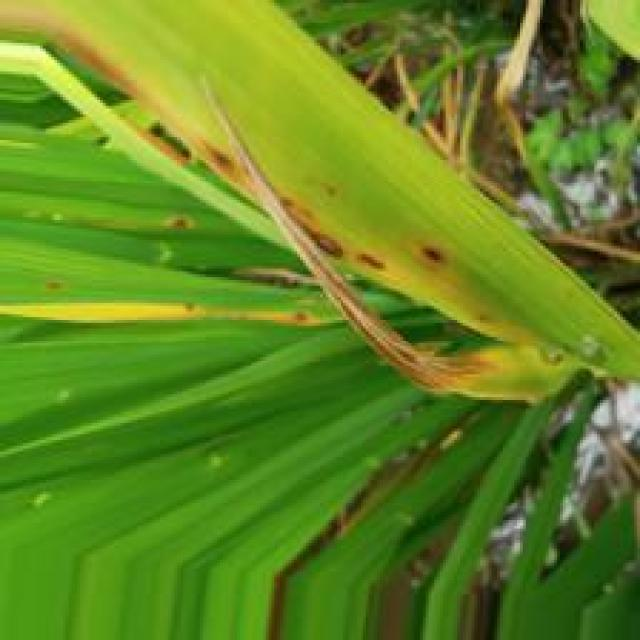Brown_Spot: (300, 221, 349, 256), (206, 147, 240, 182), (423, 245, 445, 267), (357, 255, 386, 267)
